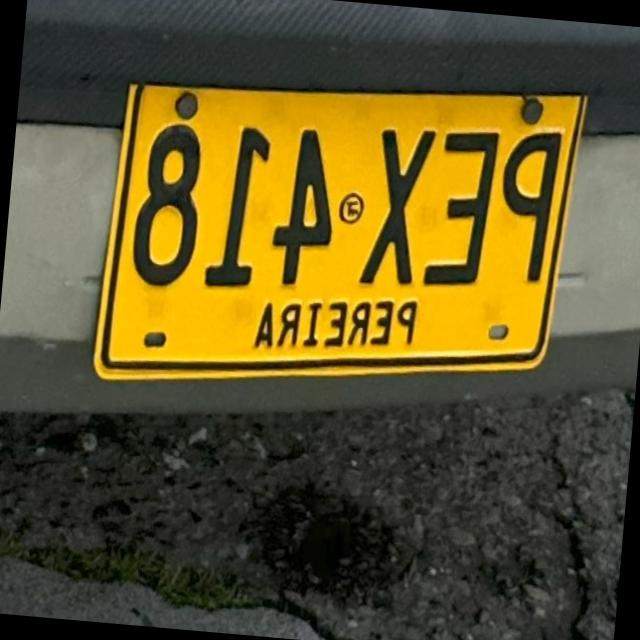number plate: (96, 83, 586, 377)
